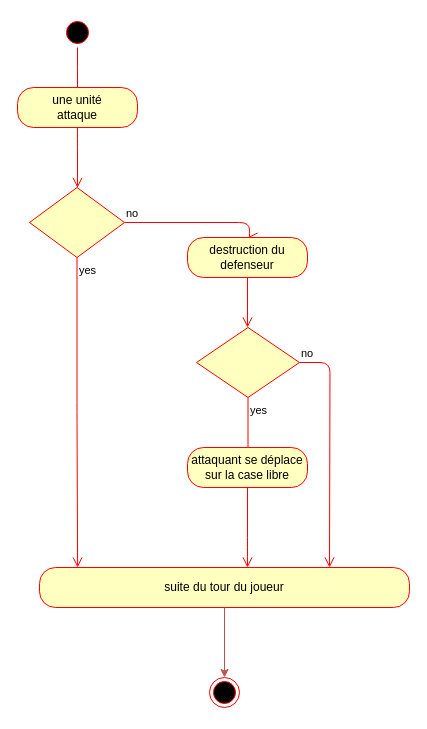
Image size: 427x729. Some labels were removed from this diagram. The box of each missing label's shape, as (x1, y1, x2, y2) in pixels:
case du defenseur libre: (196, 326, 300, 398)
defenseur en vie?: (28, 186, 124, 258)
